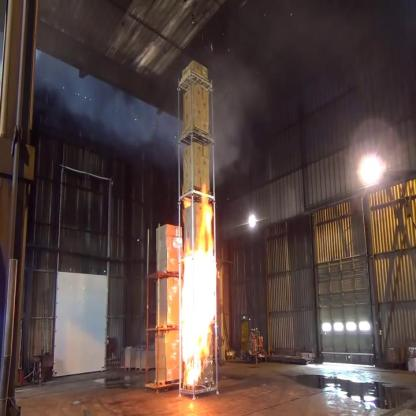fire: (177, 181, 221, 390)
